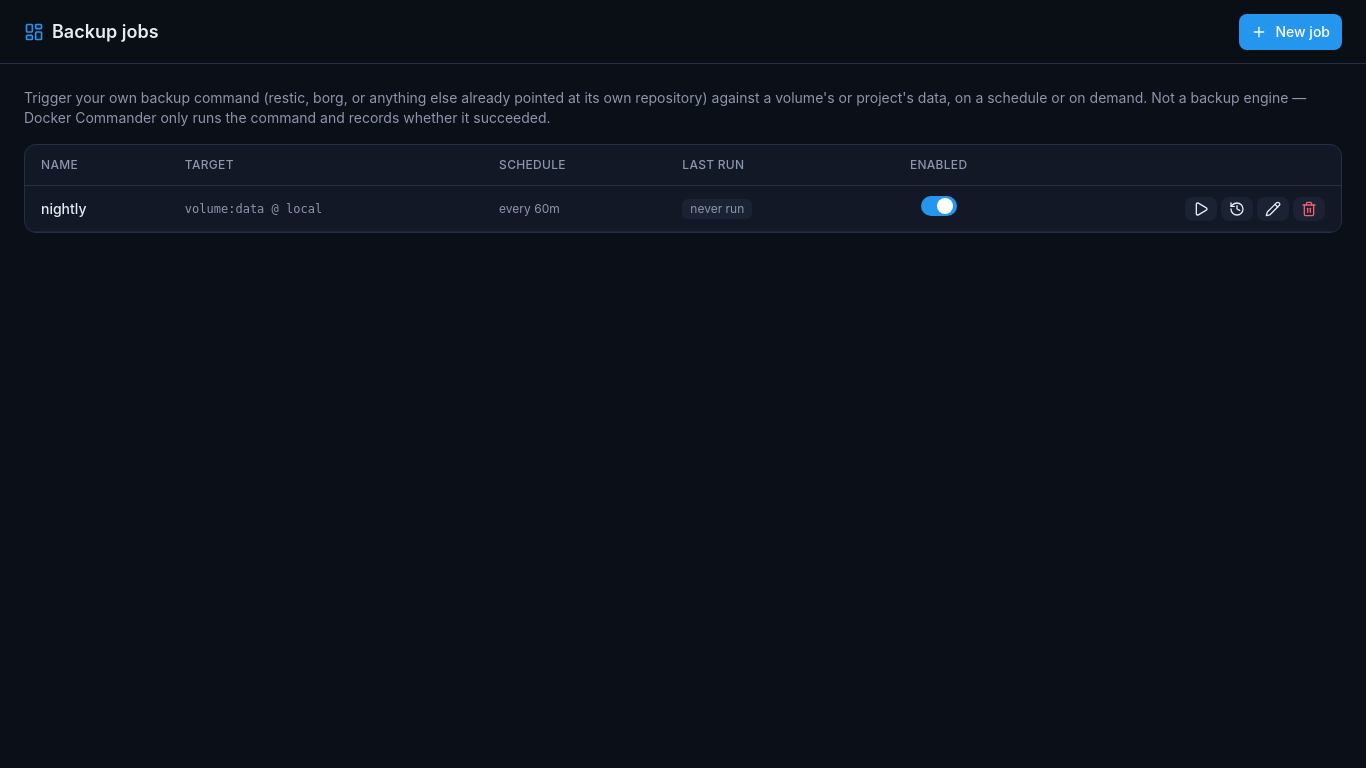
Test: BackupJobs — run history and logs › opens the run history from the History button, newest run expanded with its output and error
The width and height of the screenshot is (1366, 768).
Click the button named "Run history & logs" at [1237, 208], box x1=1221 y1=196 x2=1253 y2=220
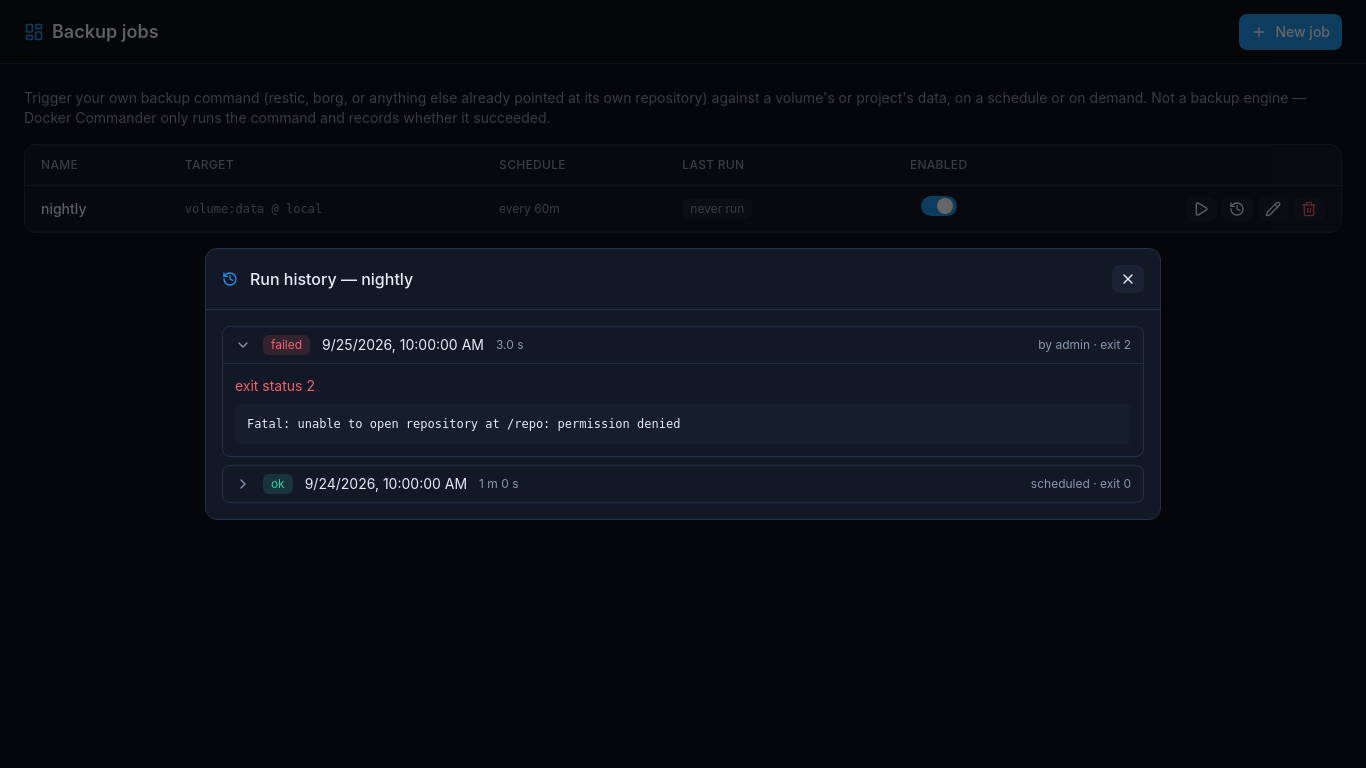
Expected: the text "Run history — nightly" is shown, x1=250 y1=267 x2=413 y2=291
Expected: the text "permission denied" is shown, x1=247 y1=417 x2=680 y2=431
Expected: the text "exit status 2" is shown, x1=235 y1=377 x2=315 y2=394
Click the button "ok 9/24/2026, 10:00:00 AM 1 m 0 s scheduled · exit 0" at [386, 484], box x1=223 y1=466 x2=1143 y2=502
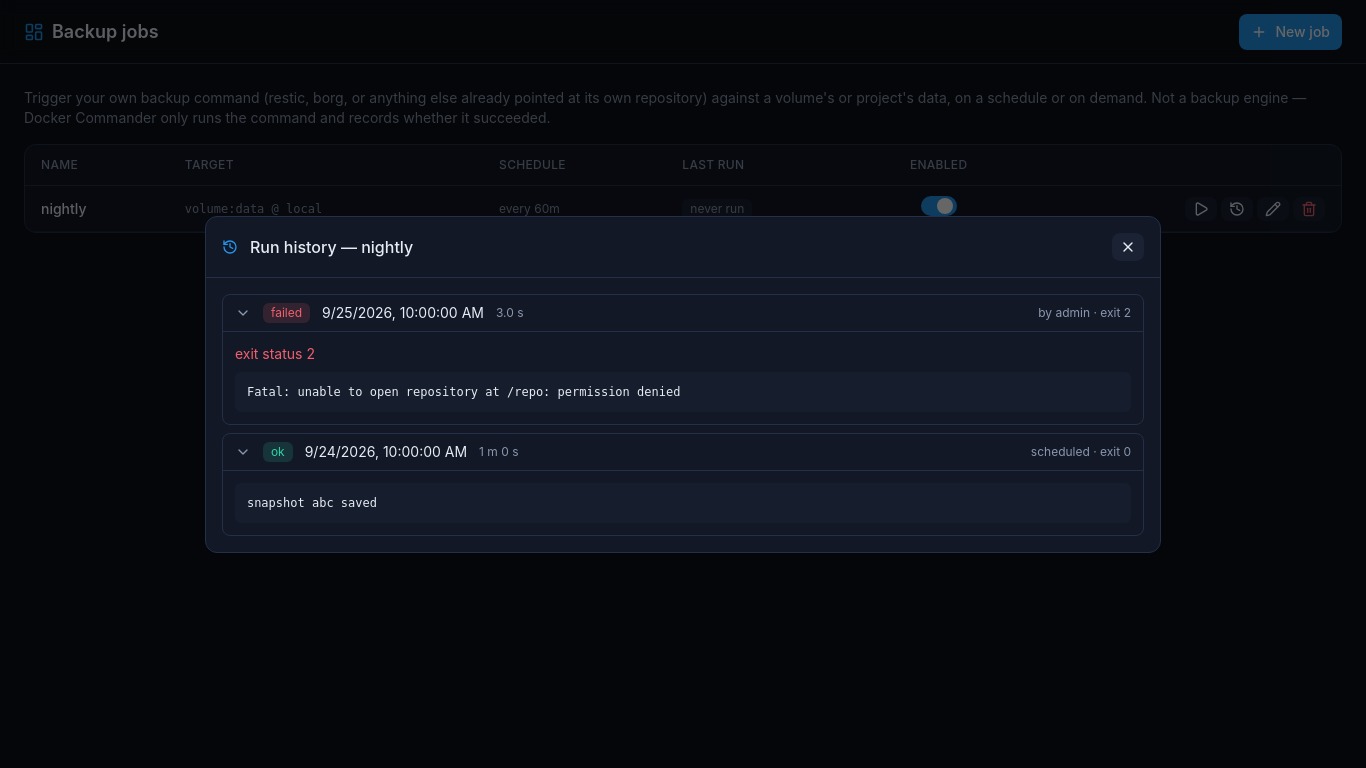
Expected: the text "snapshot abc saved" is shown, x1=235 y1=482 x2=1131 y2=522
